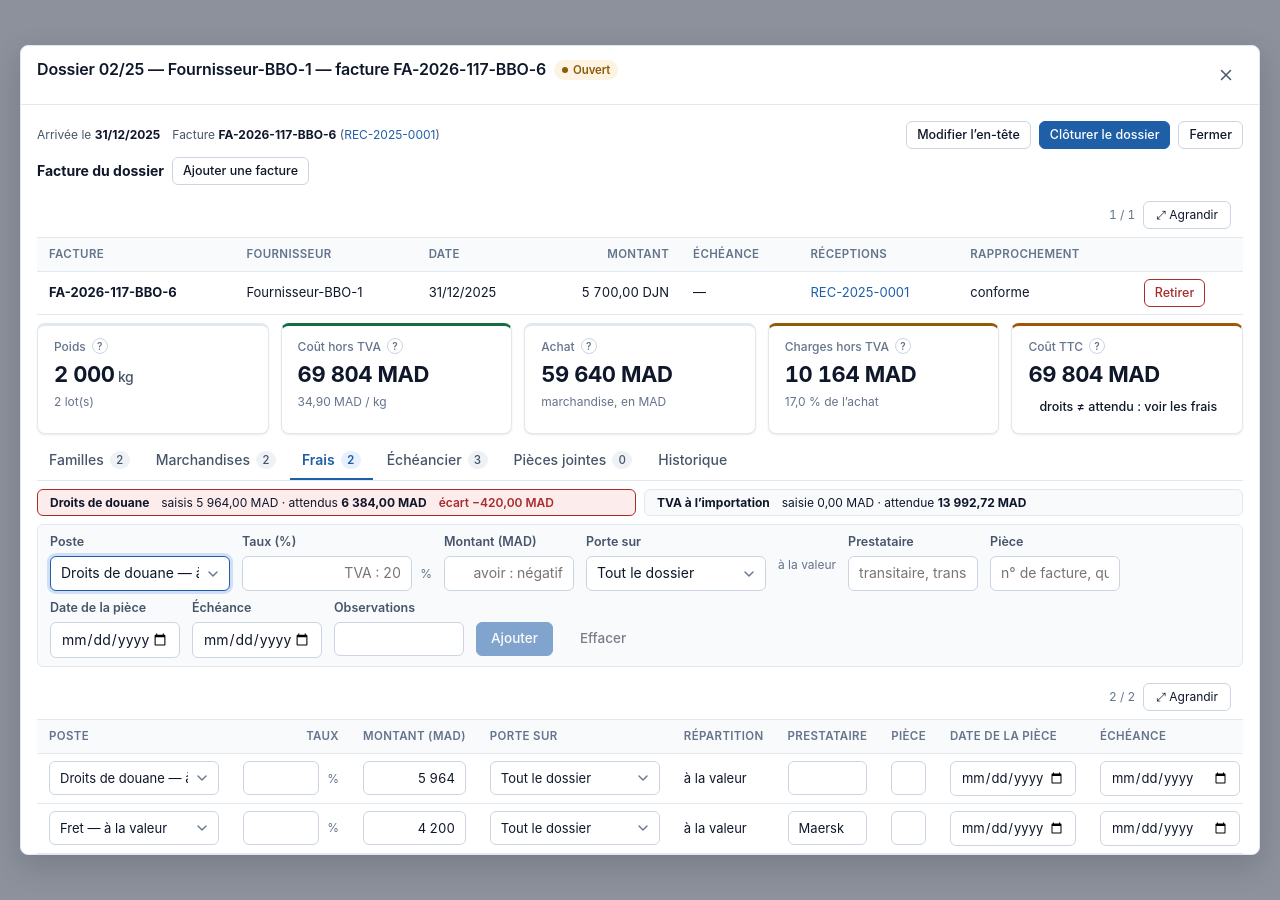
Test: Fiche dossier › frais › un montant vidé revient, avec son message, sans rien envoyer
Clear the field named "Montant du frais Fret": (414, 828) [363,811,466,845]
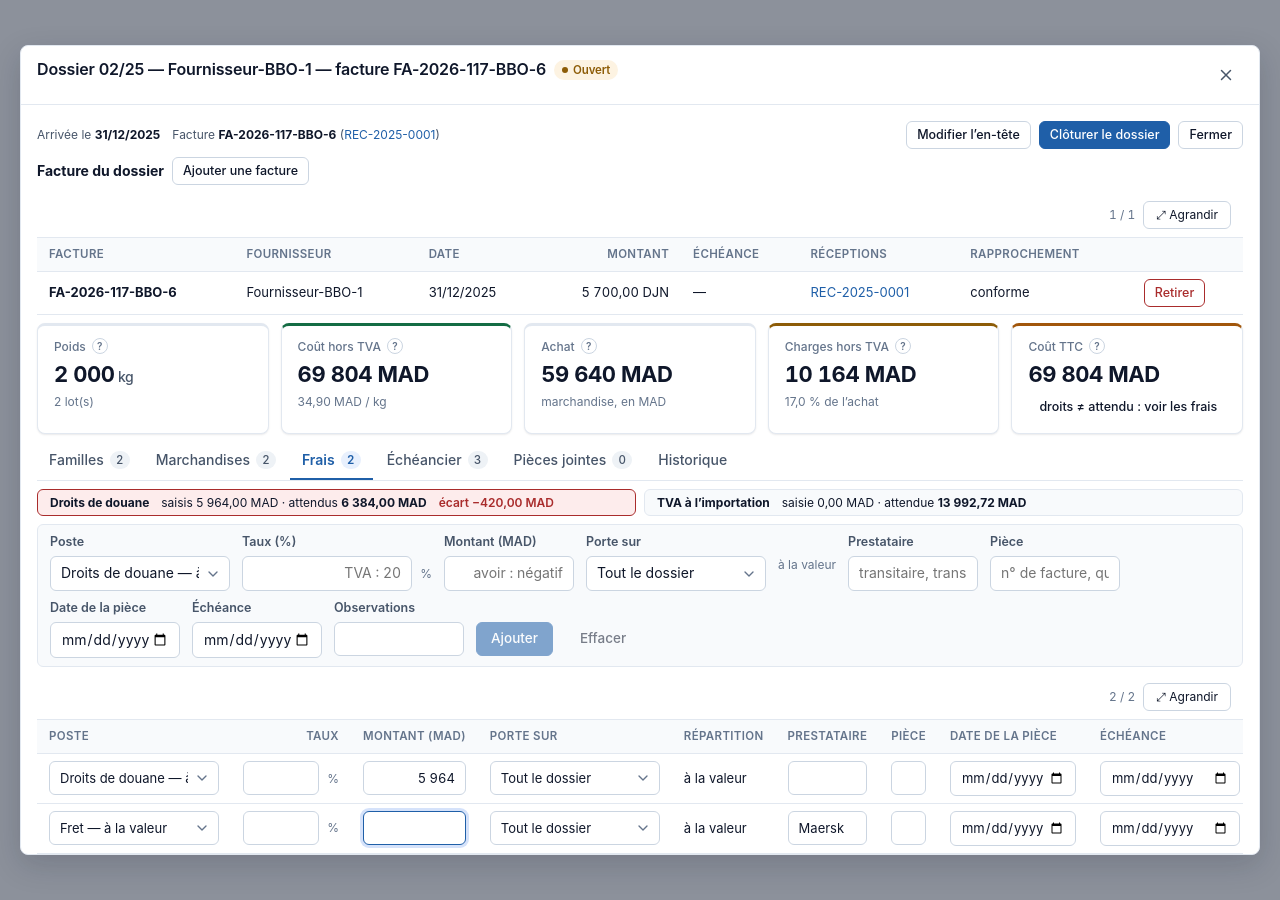
Press Tab
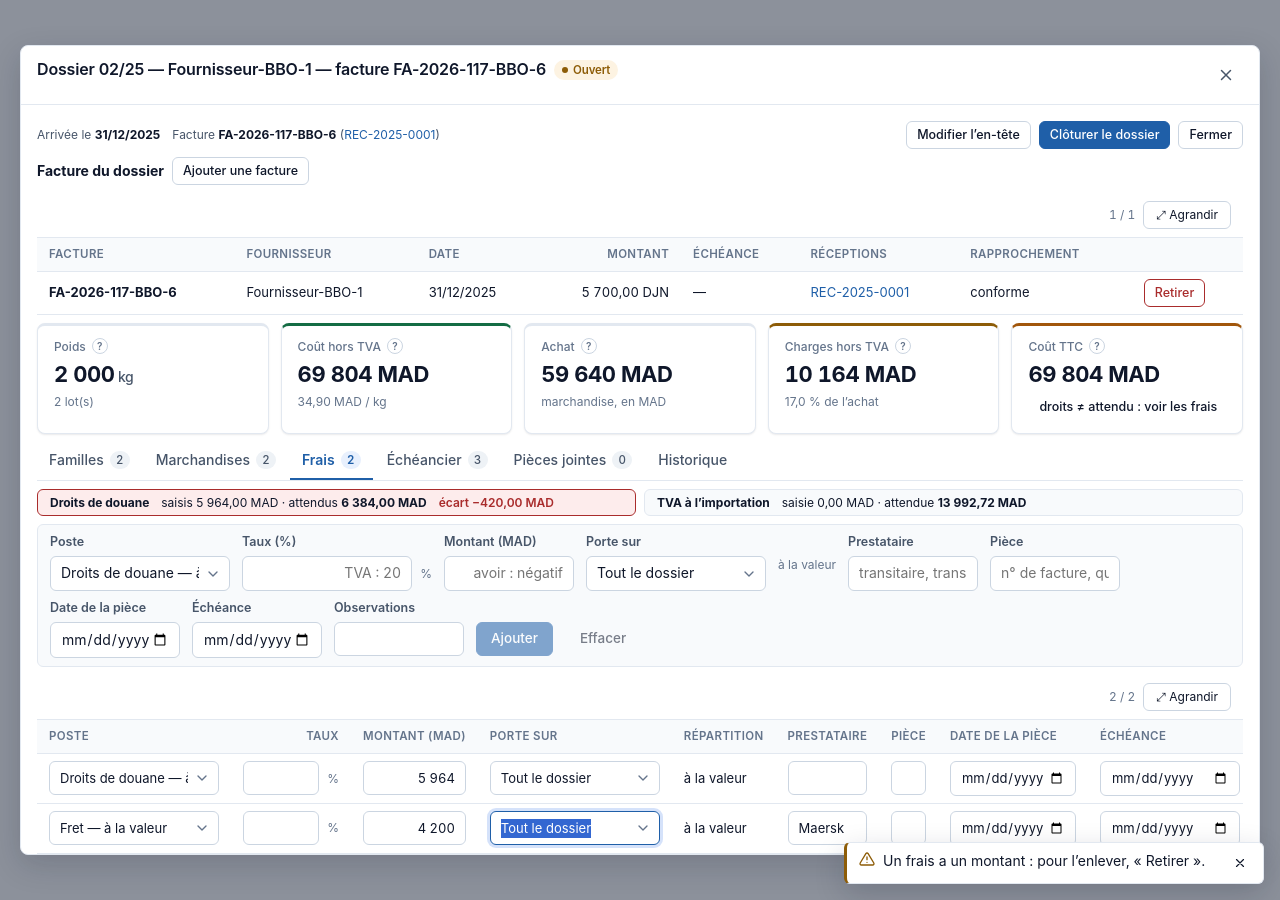
Expected: the text "Un frais a un montant : pour l’enlever, « Retirer »." is shown, [883,851,1219,871]
